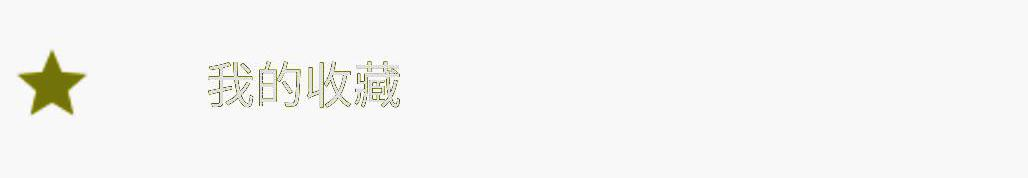CheckedTextView: (1, 1, 1027, 177)
